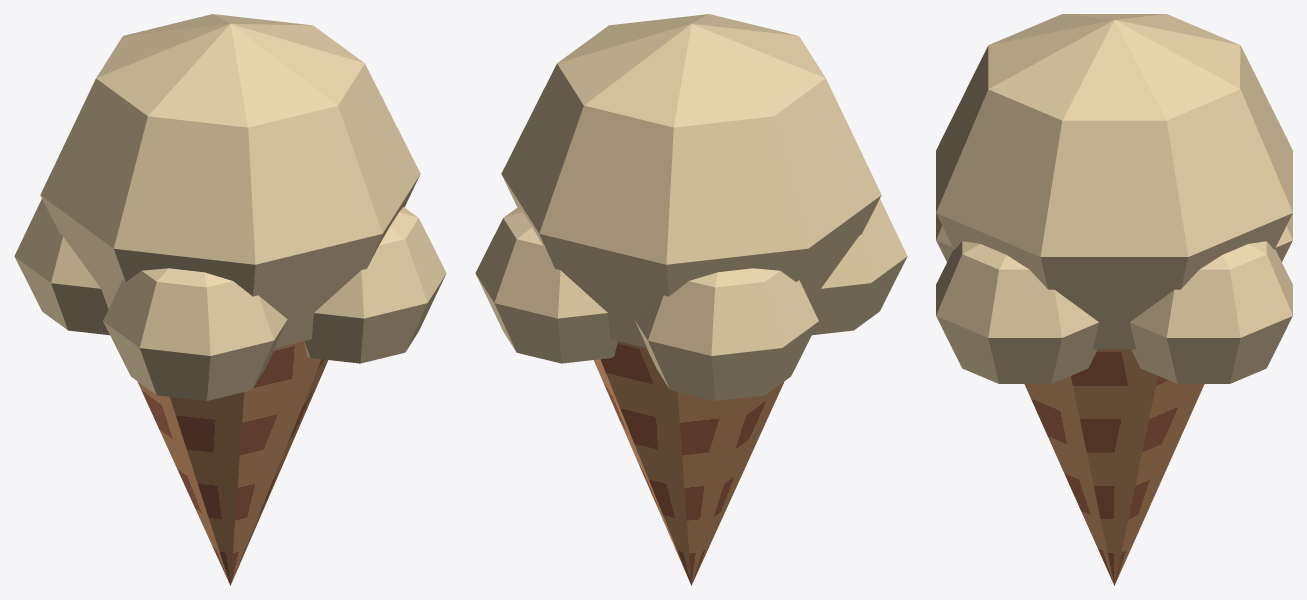
File: ice cream.fbx
3 views of the same model, side by side, from view 1: azimuth 30°, elevation 25°; view 2: azimuth 150°, elevation 25°; view 3: azimuth 270°, elevation 25° (orthographic).
Parts seen in each view (by area): view 1: Vanilla; view 2: Vanilla; view 3: Vanilla.
Boxes of the visible parts, left/top/right/bottom form: Vanilla: left=14, top=14, right=446, bottom=585; Vanilla: left=475, top=14, right=907, bottom=585; Vanilla: left=936, top=14, right=1292, bottom=585.
Bounding box in the file's own units: 25 × 43.75 × 25.
Materials: 1 (1 with a texture image).
